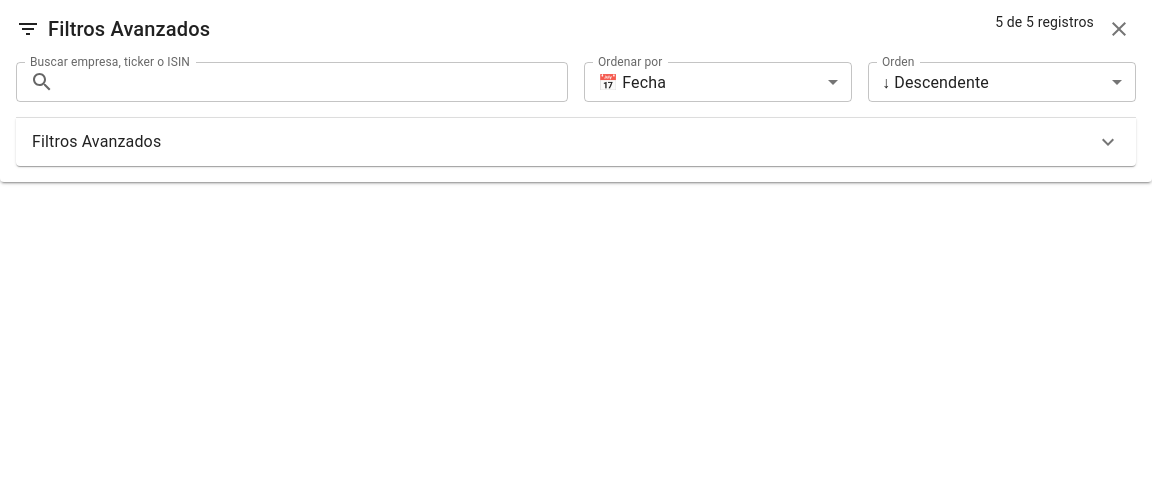
Scenario: AdvancedFilters › filters by an inclusive date range
Click the button "Filtros Avanzados" at (97, 142), box [16,118,1136,166]
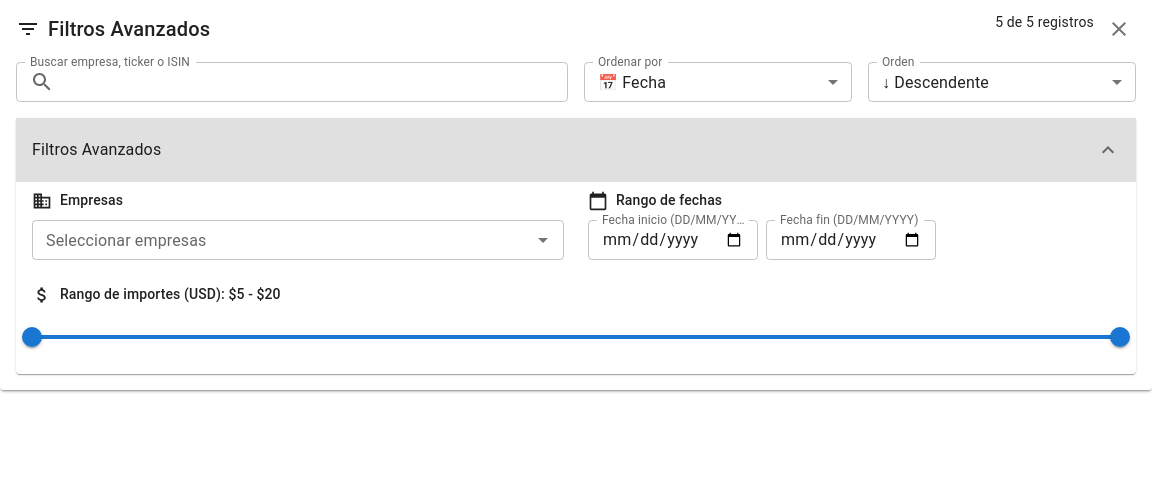
Type "2024-03-15" into the date field labelled "Fecha inicio (DD/MM/YYYY)" at (673, 240), box [588,220,758,260]
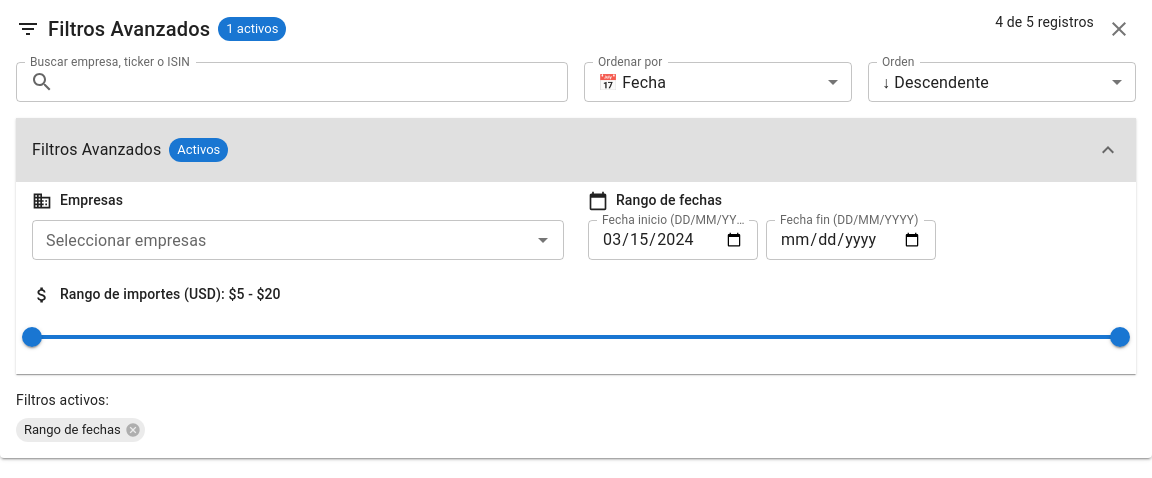
Type "2024-05-15" into the date field labelled "Fecha fin (DD/MM/YYYY)" at (851, 240), box [766,220,936,260]
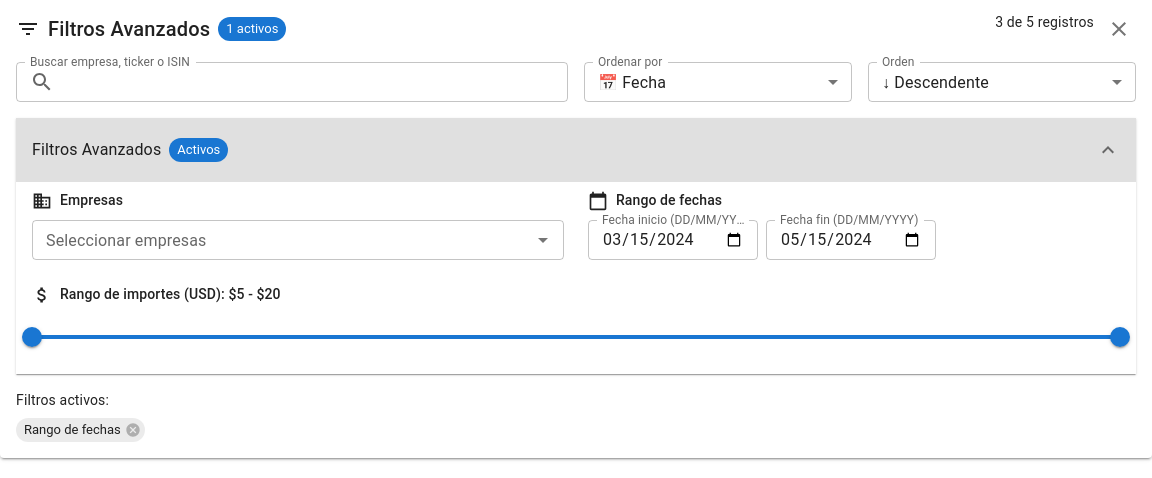
Expected: the text "Rango de fechas" is shown, [16,420,129,440]
Expected: the text "Activos" is shown, [177,142,220,157]
Click the icon with test id "CancelIcon" at (133, 430), box [125,422,141,438]
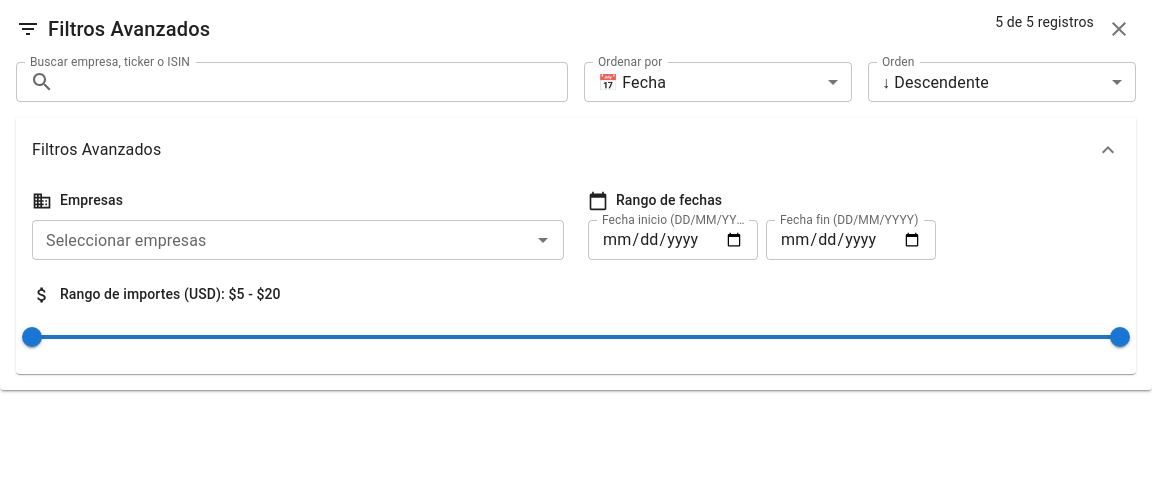
Expected: the date field labelled "Fecha inicio (DD/MM/YYYY)" is empty, [588,220,758,260]
